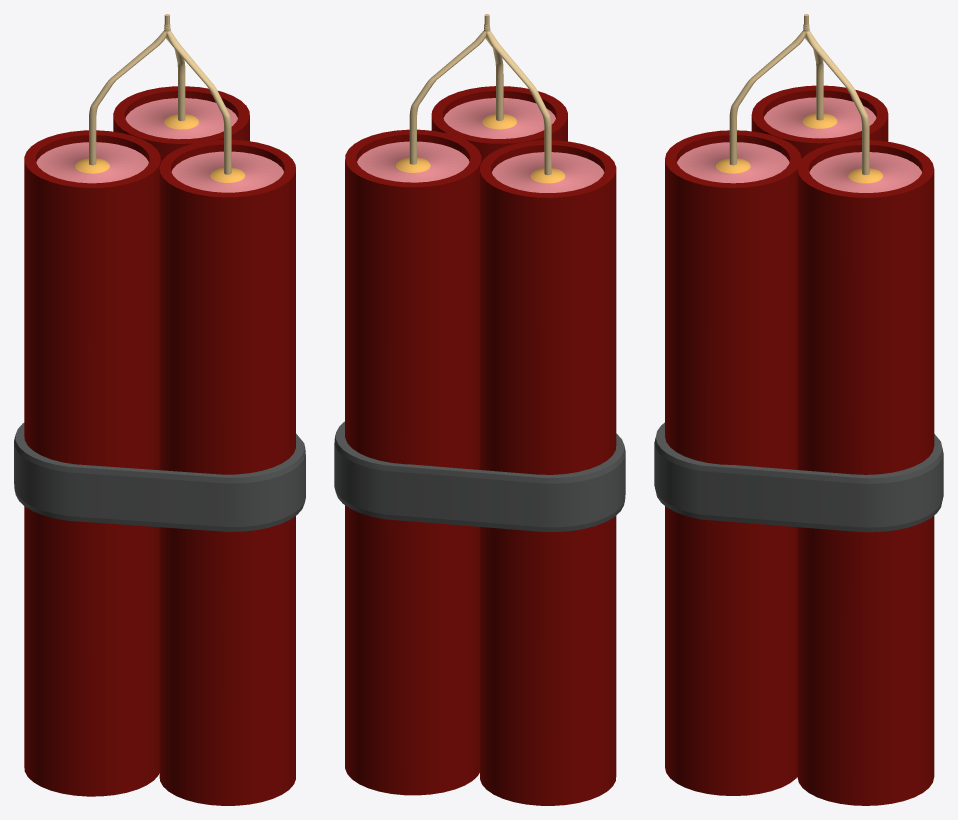
The model's file is Dynamite.fbx.
3 views of the same model, side by side, from view 1: azimuth 30°, elevation 25°; view 2: azimuth 150°, elevation 25°; view 3: azimuth 270°, elevation 25° (orthographic).
Parts seen in each view (by area): view 1: Cylinder; view 2: Cylinder; view 3: Cylinder.
Boxes of the visible parts, <box> form: Cylinder: <box>14,14,305,805</box>; Cylinder: <box>334,14,625,805</box>; Cylinder: <box>654,14,943,805</box>.
Bounding box in the file's own units: 85.09 × 244 × 86.15.
